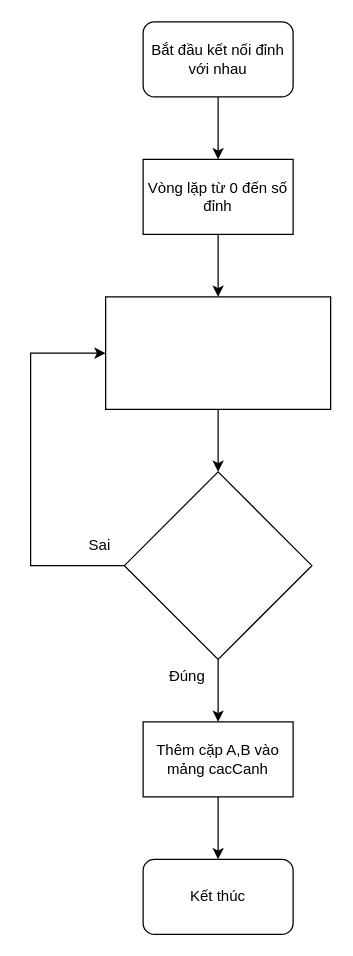
Some shapes in this 353 by 956 pixel diagram are drawn without their labels. Here are the shapes that lost their labels. From the top down, the box of each, then its label:
(104, 296, 331, 409): Khởi tạo biến A là đỉnh hiện tại. biến B là đỉnh tiếp theo
(123, 471, 312, 659): Nếu giữa A và B chưa có cạnh
